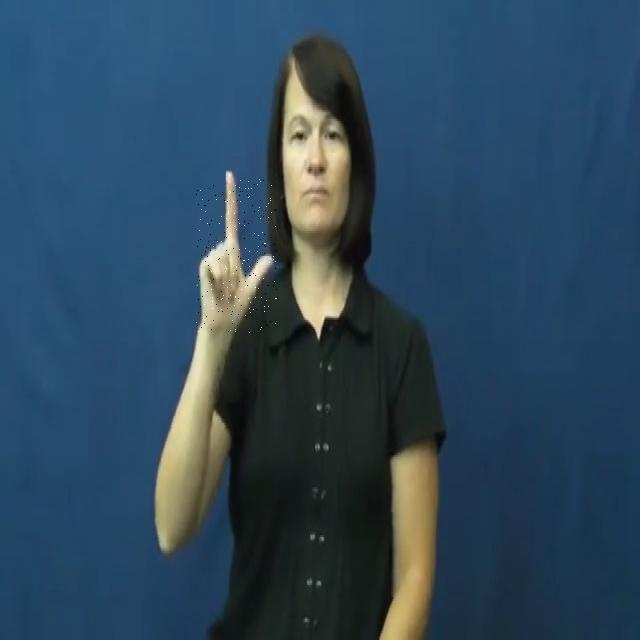refill: (196, 179, 278, 333)
